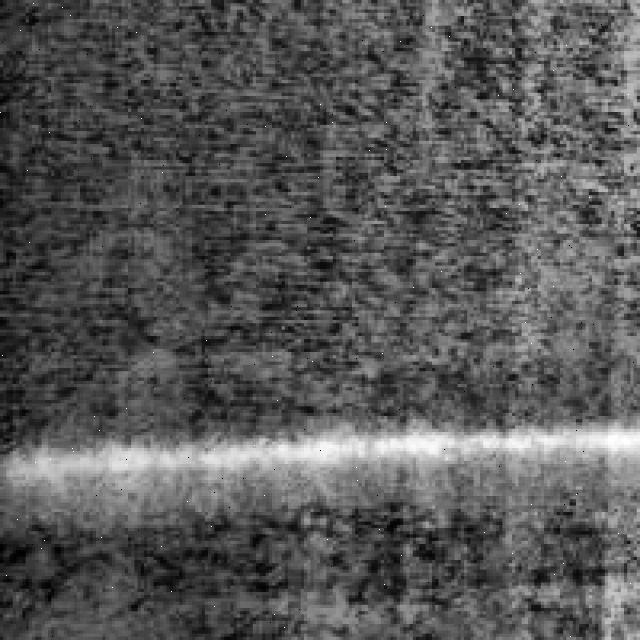Inclusion: (16, 413, 634, 464)
